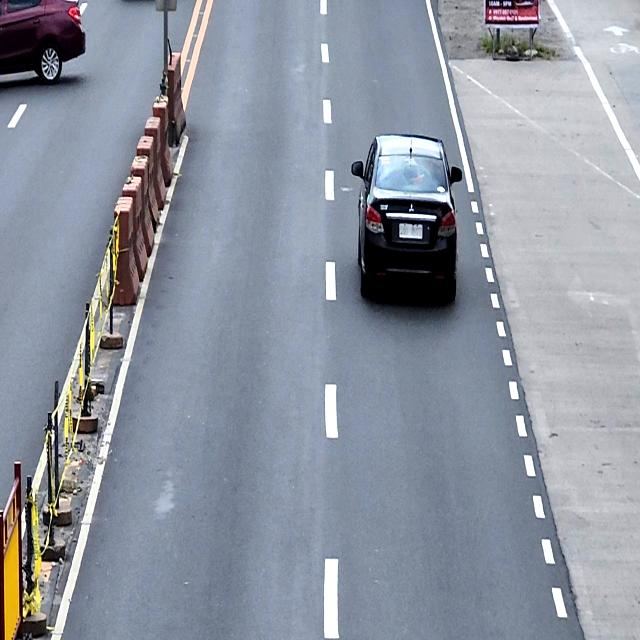Car: (351, 132, 462, 302), (0, 0, 87, 84)
License-Plate: (397, 220, 424, 240)
